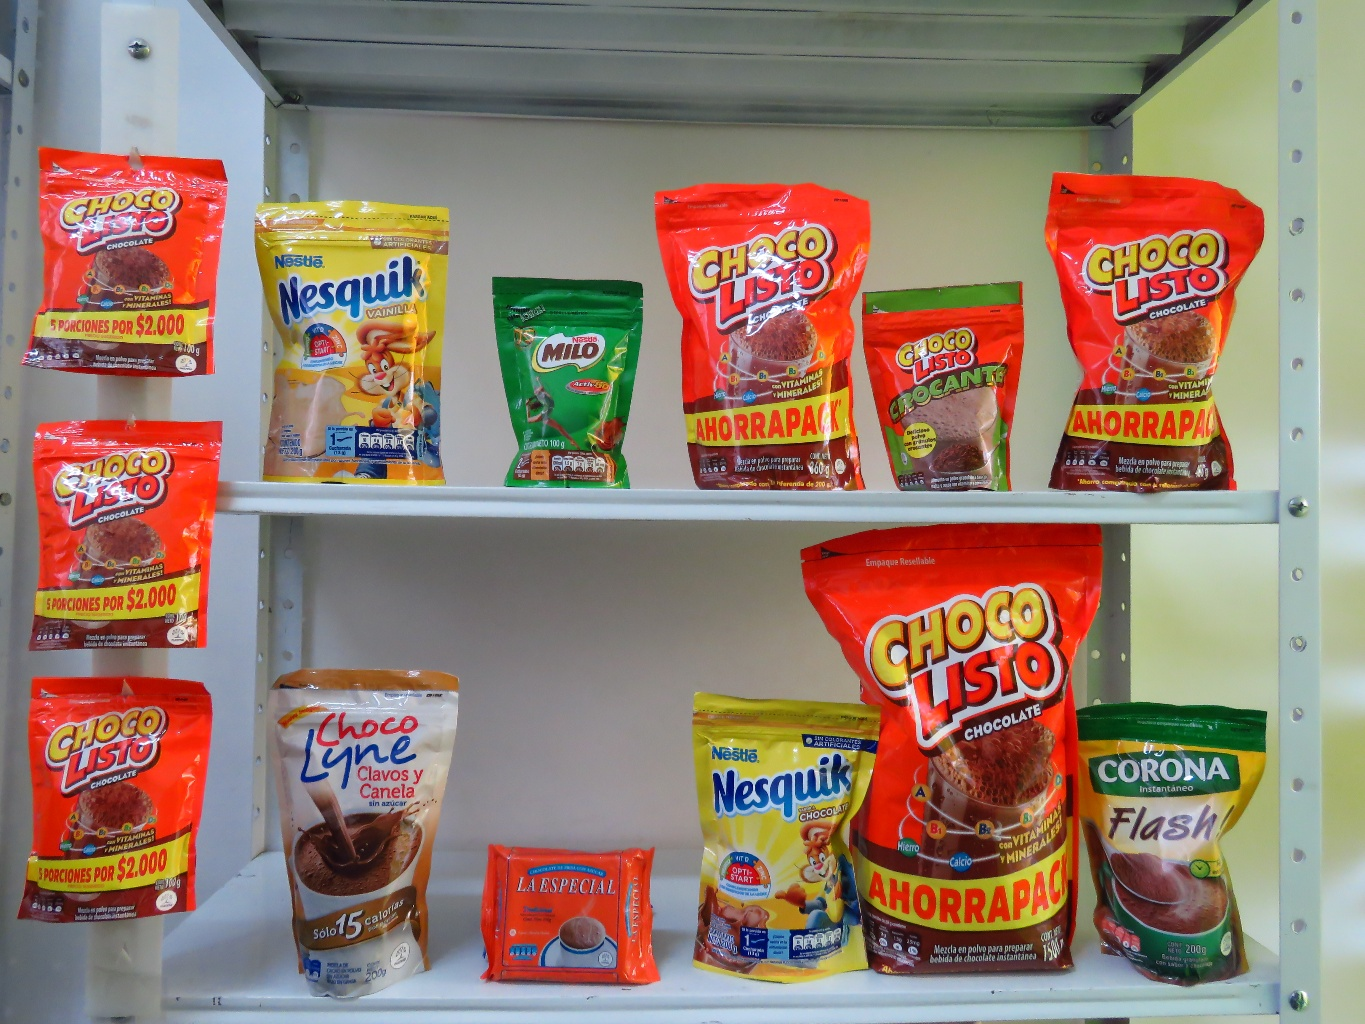COL0170102DYP10000: (865, 276, 1026, 496)
COL0170103DYP1,500: (810, 523, 1110, 976)
COL0170103DYP10000: (24, 140, 214, 382)
COL0170103DYP36000: (649, 171, 877, 483)
COL0170103DYP40000: (1037, 154, 1268, 493)
COL0170203DYP10000: (486, 273, 645, 482)
COL0170303DYP20000: (689, 689, 882, 985)
COL0170306DYP20000: (255, 195, 460, 479)
